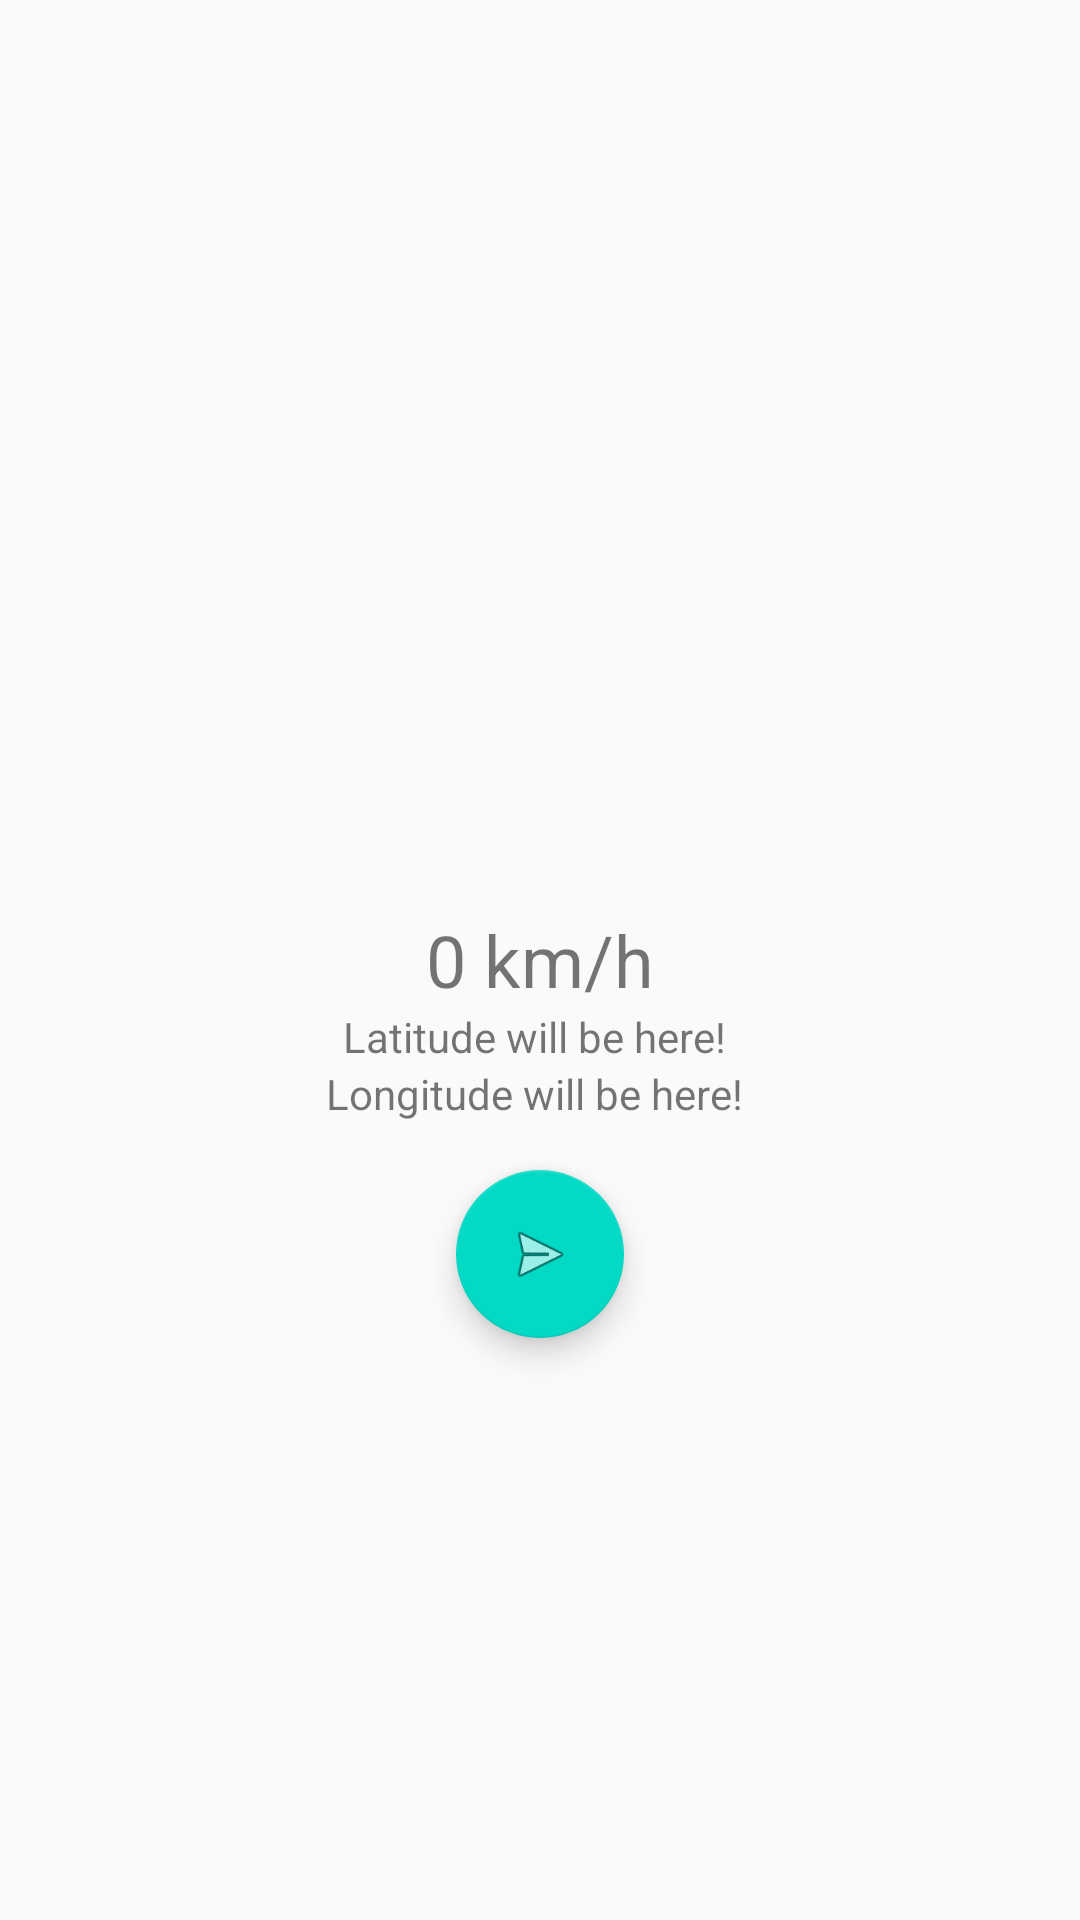

Icons on this 1080x1920 Android screen, each with its box as [x1,y1,x2,y2]:
send: [456,1170,624,1338]
